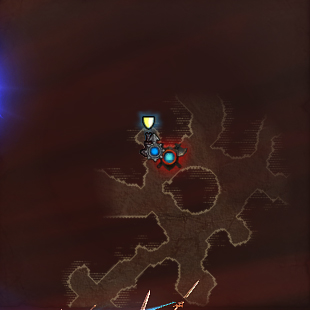ShieldPylon: (141, 114, 158, 155)
